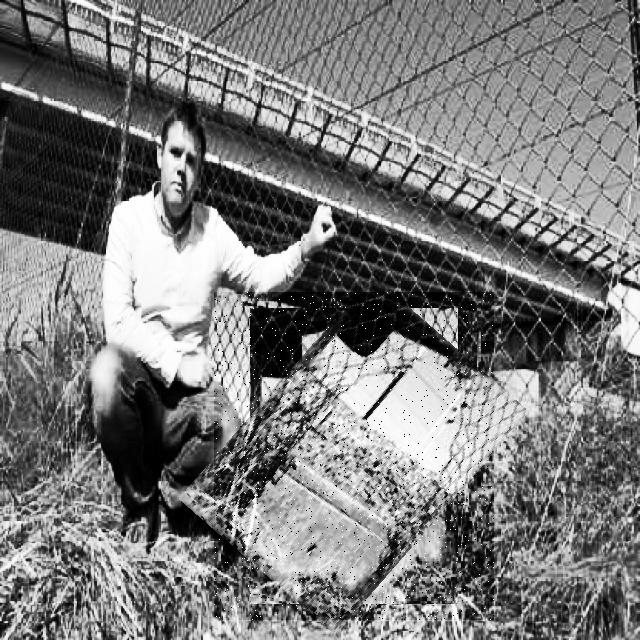anomaly-fence: (214, 292, 494, 620)
